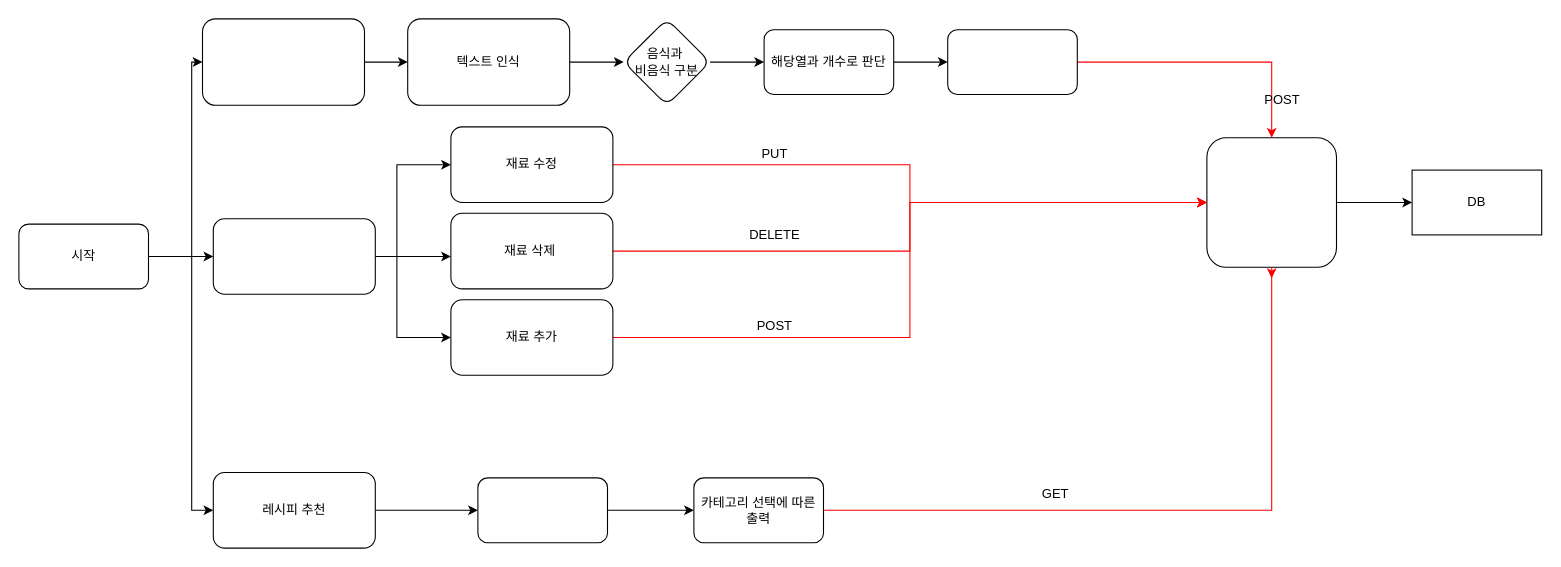
The diagram is 1561 pixels wide and 567 high, and some of its shapes have lost their labels. Each missing label, with the box of its shape:
DB에 데이터 저장: (947, 29, 1077, 94)
spring: (1206, 137, 1336, 267)
요리의 재료와 레시피 재료 유사도 확인: (477, 477, 608, 543)
재료 리스트: (212, 218, 375, 294)
카메라(사진 넣는기능): (201, 18, 364, 105)
